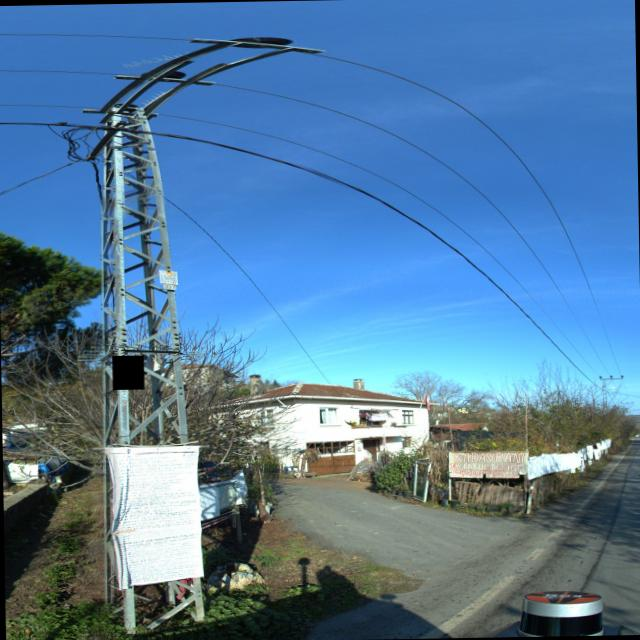Utility Pole Information Plate: (112, 355, 144, 389)
